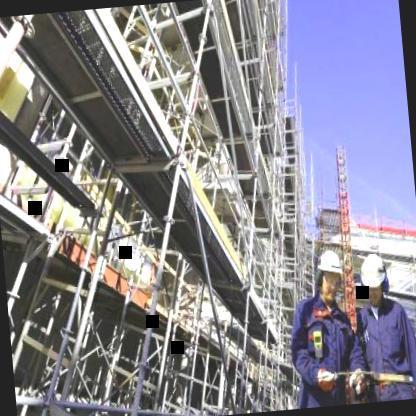helmet: (314, 244, 346, 300), (358, 250, 390, 302)
